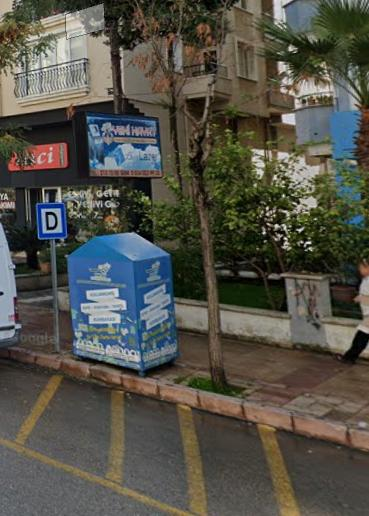station: (38, 203, 65, 239)
